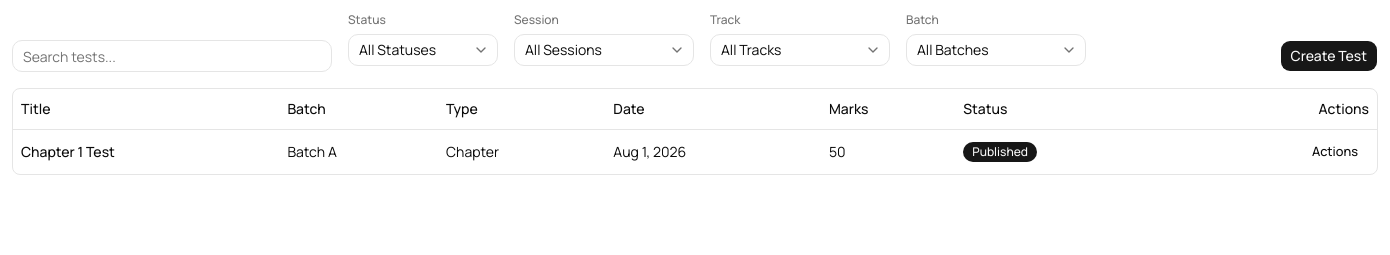
Test: Admin Test UI › 7. PUBLISHED does not expose publish action
Click the button "Actions".
click(1335, 152)  # box [1301,138,1369,166]
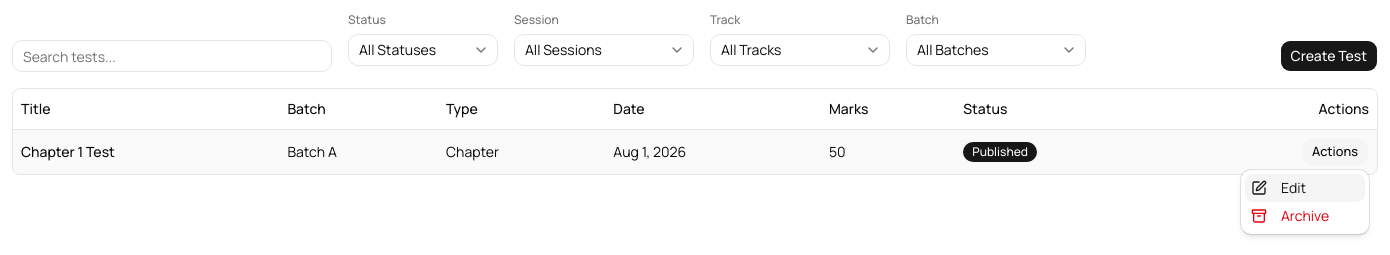
Expected: the menu item "Edit" is shown, [1245,174,1365,202]
Expected: the menu item "Archive" is shown, [1251,206,1329,225]
